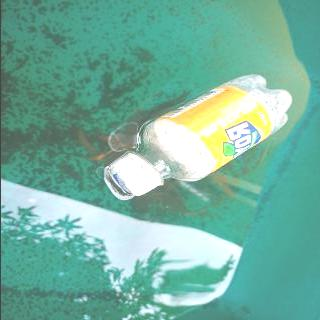bottle: (105, 72, 294, 198)
